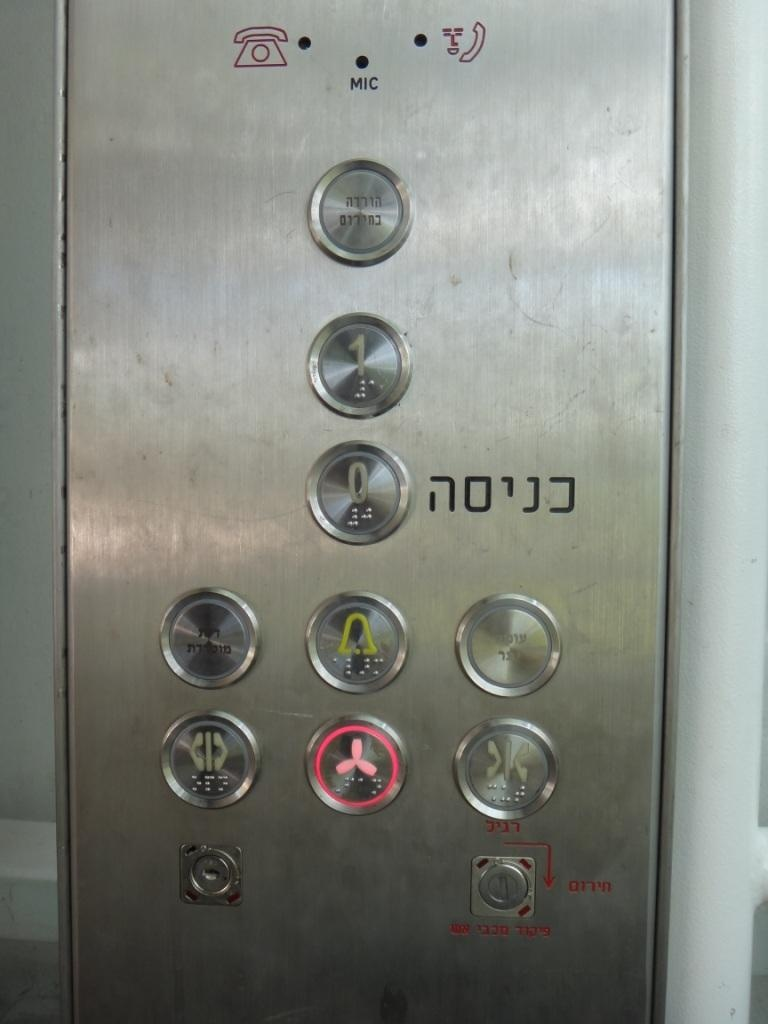0: (303, 434, 411, 546)
1: (305, 310, 413, 422)
alarm: (303, 586, 411, 698)
close: (450, 711, 561, 823)
fan: (300, 707, 410, 822)
keyhole: (175, 840, 248, 912), (468, 850, 541, 922)
open: (157, 702, 265, 814)
text: (155, 580, 265, 695), (452, 588, 562, 703), (306, 155, 414, 272)
